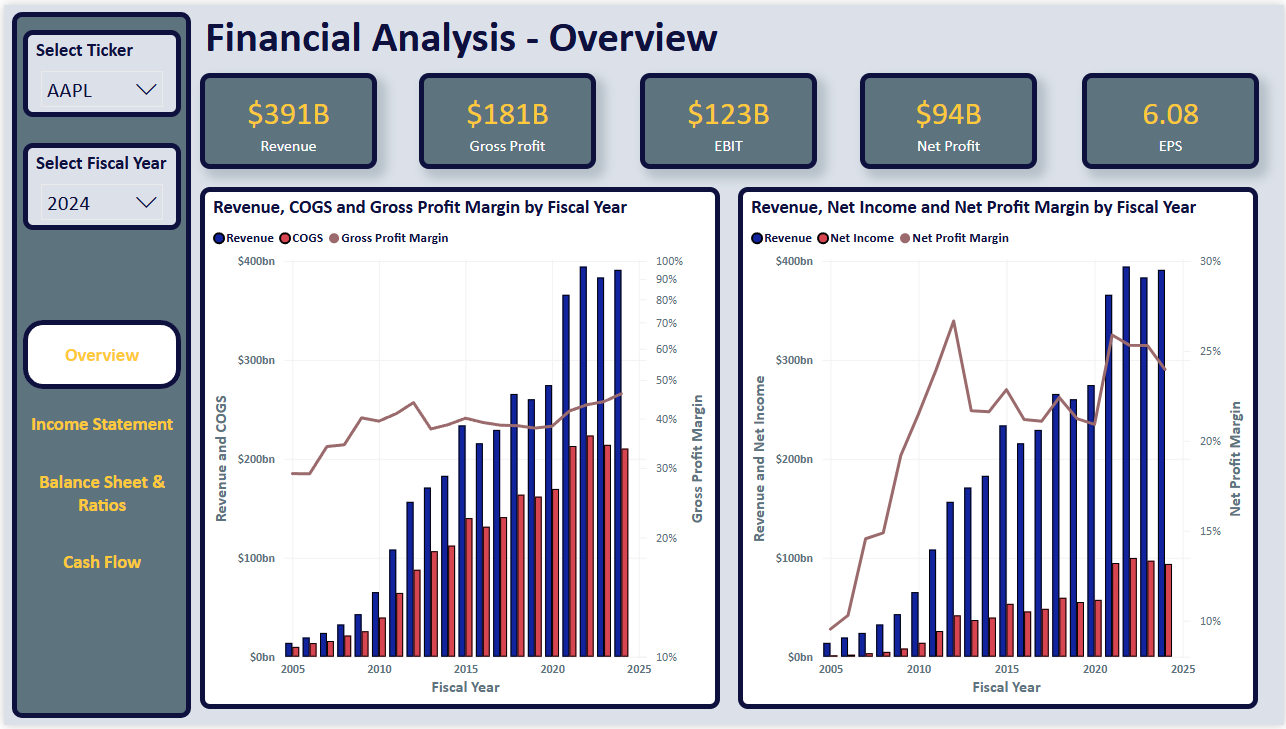

What the dashboard file says about the page in this screenshot:
{"tool":"powerbi","page":{"name":"Overview","canvas":[1280,720],"ordinal":0},"visuals":[{"type":"group","id":"g1","title":"Group 1","box":[196,68.3,1057.8,95.8],"z":0},{"type":"card","fields":{"Values":["Income Statement.Revenue (B)"]},"box":[196,68.3,176.7,95.6],"z":0,"group":"g1"},{"type":"actionButton","box":[18.6,314.8,158,69],"z":0,"group":"g2"},{"type":"textbox","title":"Title","box":[196,0,882.3,68.3],"z":1000},{"type":"card","fields":{"Values":["Income Statement.Gross Profit (B)"]},"box":[414.9,68.3,176.7,95.6],"z":1000,"group":"g1"},{"type":"actionButton","box":[18.6,383.8,158,69],"z":1000,"group":"g2"},{"type":"shape","box":[8,7,179,706],"z":2000},{"type":"card","fields":{"Values":["Income Statement.EBIT (B)"]},"box":[636,68.3,176.7,95.6],"z":2000,"group":"g1"},{"type":"actionButton","box":[18.6,452.8,158,69],"z":2000,"group":"g2"},{"type":"slicer","title":"Select Ticker","fields":{"Values":["Income Statement.Ticker"]},"box":[19,25,158,87],"z":3000},{"type":"card","fields":{"Values":["Income Statement.Net Income (B)"]},"box":[856,68.3,176.7,95.6],"z":3000,"group":"g1"},{"type":"actionButton","box":[18.6,521.8,158,69],"z":3000,"group":"g2"},{"type":"card","fields":{"Values":["KPIs.EPS"]},"box":[1078.2,68.3,176.7,95.6],"z":4000,"group":"g1"},{"type":"slicer","title":"Select Fiscal Year","fields":{"Values":["Income Statement.FiscalYear"]},"box":[19,138,158,87],"z":4000},{"type":"group","id":"g2","title":"Group 2","box":[18.6,314.8,158.7,275.8],"z":5000},{"type":"lineClusteredColumnComboChart","fields":{"Category":["Income Statement.FiscalYear"],"Y":["Sum(Income Statement.revenue)","Sum(Income Statement.costofGoodsAndServicesSold)"],"Y2":["Income Statement.Gross Profit Margin"]},"box":[196,181.8,519.6,522.3],"z":6000},{"type":"lineClusteredColumnComboChart","fields":{"Category":["Income Statement.FiscalYear"],"Y2":["Income Statement.Net Profit Margin"],"Y":["Sum(Income Statement.revenue)","Sum(Income Statement.net_income)"]},"box":[734.3,181.9,519.4,522.3],"z":7000}]}

Visuals, with their boxes in screenshot pixels (x1, y1, x2, y2), scaled from the page's 1280x720 canvas onto the 1286x729 screenshot:
"Group 1" group: [left=197, top=69, right=1260, bottom=166]
card - Income Statement.Revenue (B): [left=197, top=69, right=374, bottom=166]
actionButton: [left=19, top=319, right=177, bottom=389]
"Title" textbox: [left=197, top=0, right=1083, bottom=69]
card - Income Statement.Gross Profit (B): [left=417, top=69, right=594, bottom=166]
actionButton: [left=19, top=389, right=177, bottom=458]
shape: [left=8, top=7, right=188, bottom=722]
card - Income Statement.EBIT (B): [left=639, top=69, right=817, bottom=166]
actionButton: [left=19, top=458, right=177, bottom=528]
"Select Ticker" slicer: [left=19, top=25, right=178, bottom=113]
card - Income Statement.Net Income (B): [left=860, top=69, right=1038, bottom=166]
actionButton: [left=19, top=528, right=177, bottom=598]
card - KPIs.EPS: [left=1083, top=69, right=1261, bottom=166]
"Select Fiscal Year" slicer: [left=19, top=140, right=178, bottom=228]
"Group 2" group: [left=19, top=319, right=178, bottom=598]
lineClusteredColumnComboChart - Income Statement.FiscalYear x Sum(Income Statement.revenue): [left=197, top=184, right=719, bottom=713]
lineClusteredColumnComboChart - Income Statement.FiscalYear x Income Statement.Net Profit Margin: [left=738, top=184, right=1260, bottom=713]
